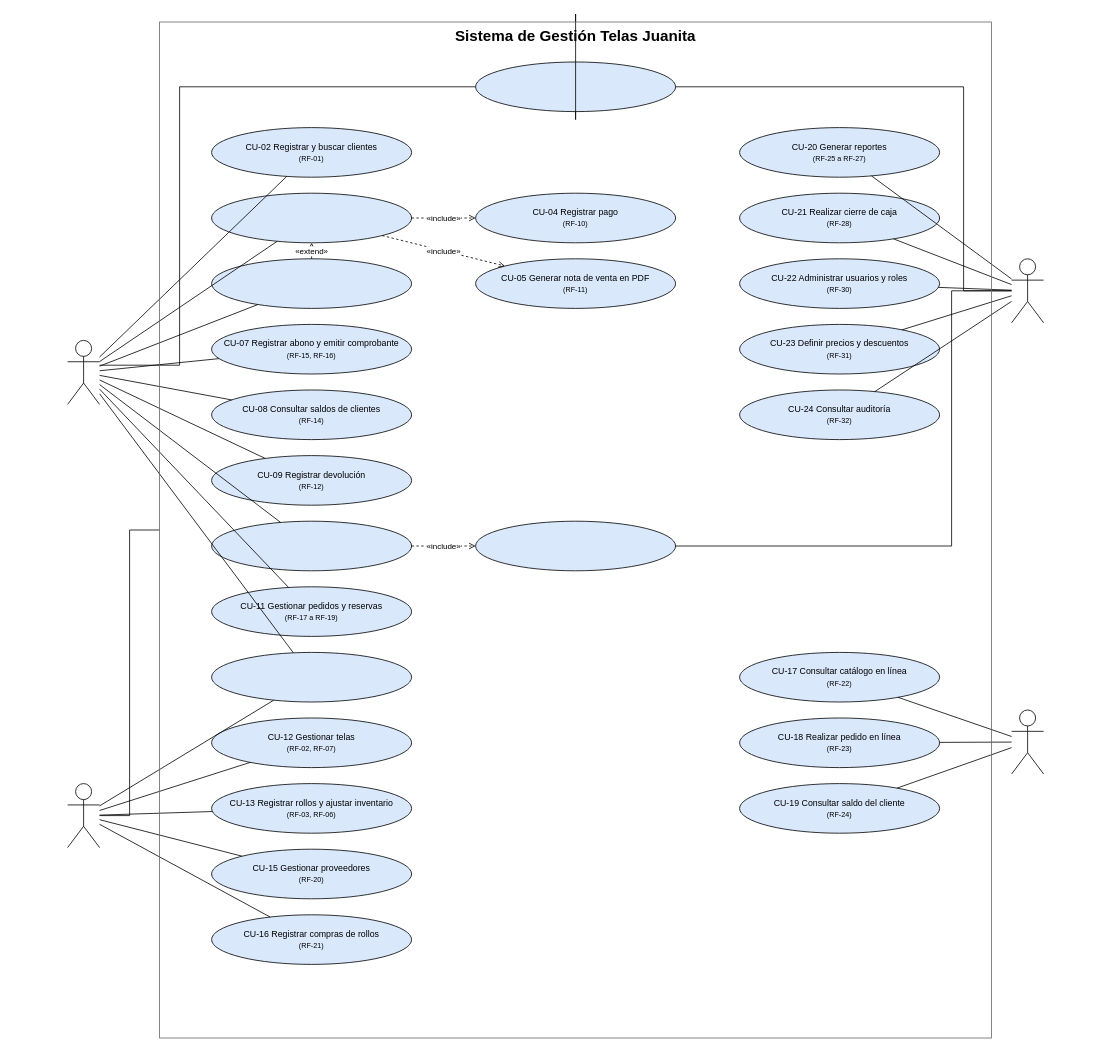
Some shapes in this 1112 by 1052 pixel diagram are drawn without their labels. Here are the shapes that lost their labels. From the top down, the centre of each, then its label:
At (575,86): "CU-01 Iniciar sesión (RF-29)".
At (311,217): "CU-03 Registrar venta (RF-08, RF-09)".
At (311,283): "CU-06 Registrar venta a crédito (RF-10, RF-14)".
At (1027,290): "Dueña / Administradora (ACT-04)".
At (83,372): "Vendedor (ACT-01)".
At (311,545): "CU-10 Anular venta (RF-13)".
At (575,545): "CU-10a Autorizar anulación (RN-04)".
At (311,677): "CU-14 Consultar existencias y alertas de stock (RF-04, RF-05)".
At (1027,741): "Cliente (ACT-03)".
At (83,815): "Encargado de almacén (ACT-02)".
